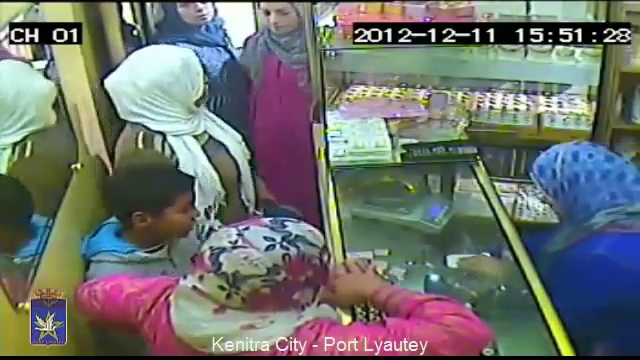face: (148, 186, 200, 246), (260, 0, 302, 35), (175, 6, 218, 24)
